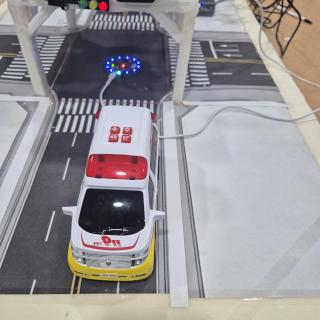Ambulance: (62, 106, 165, 281)
